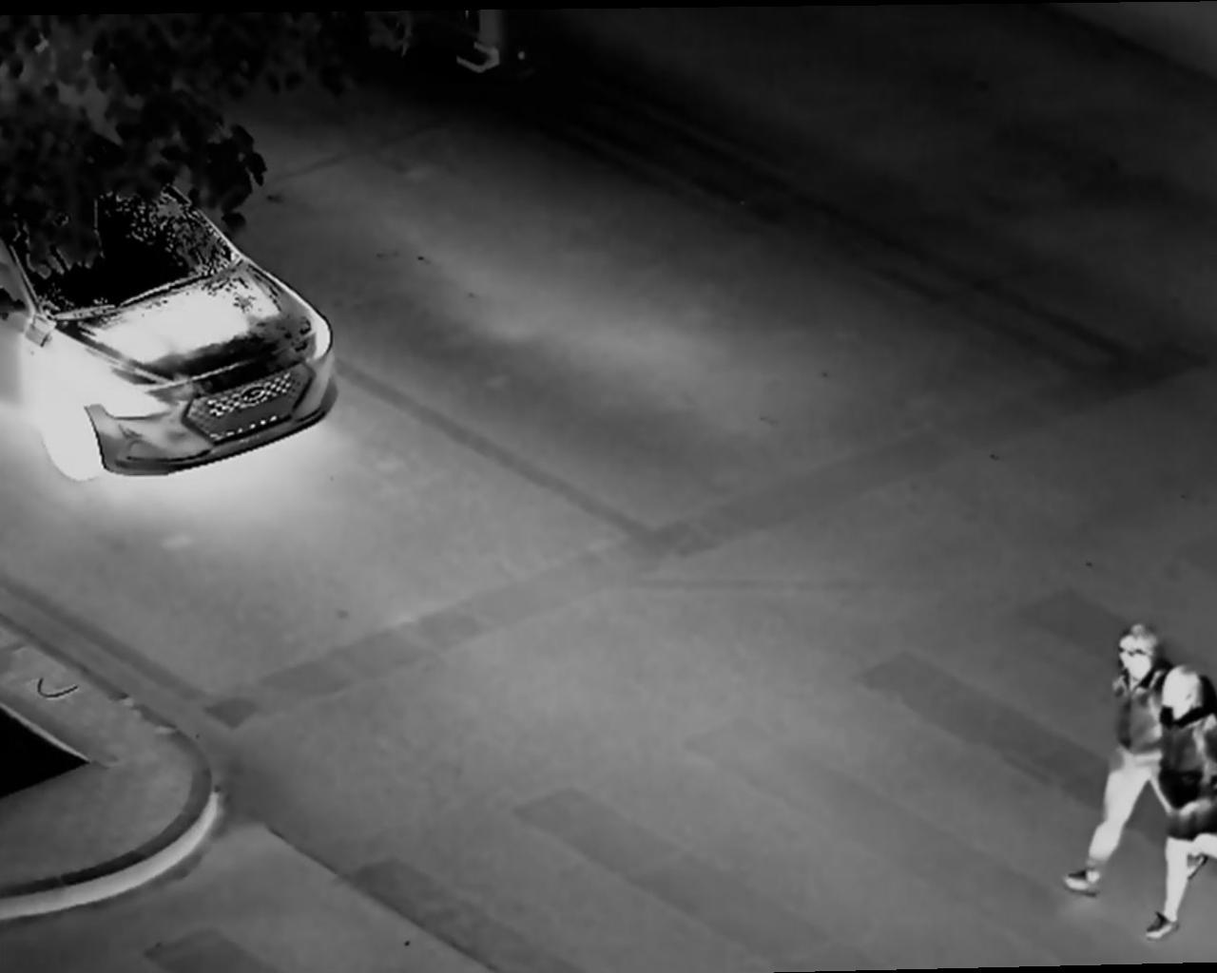person: (1085, 615, 1156, 922), (1150, 666, 1217, 948)
